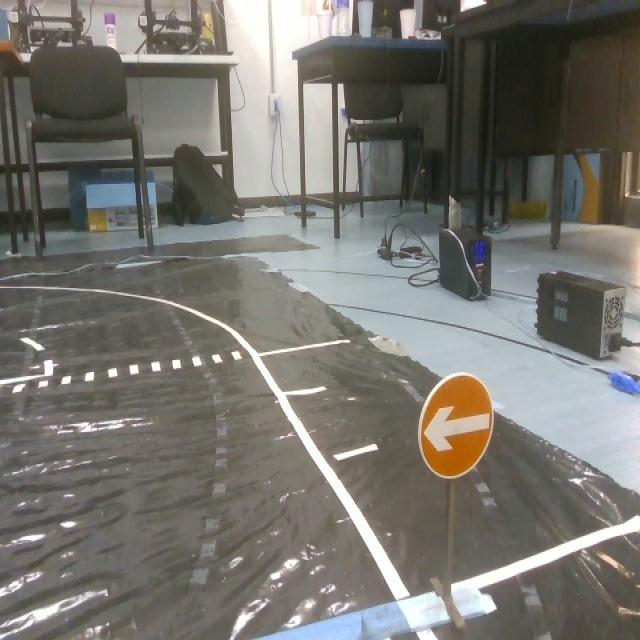forward: (412, 370, 500, 483)
